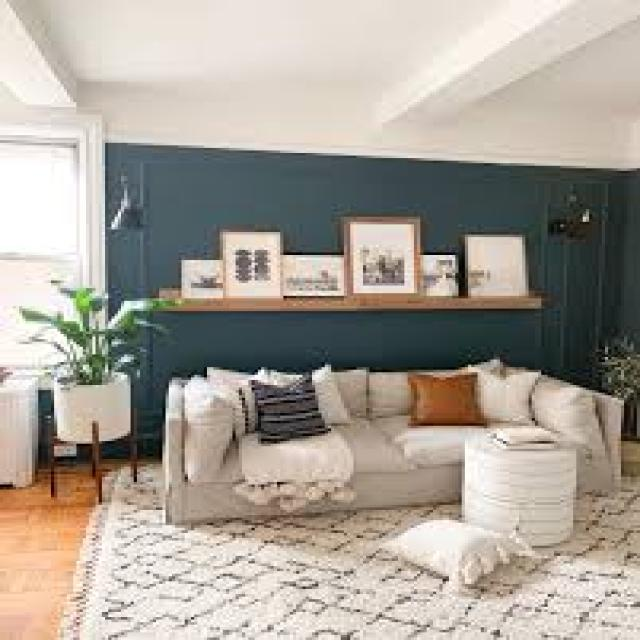Lamp: (90, 164, 160, 248)
Sofa: (157, 357, 624, 528)
